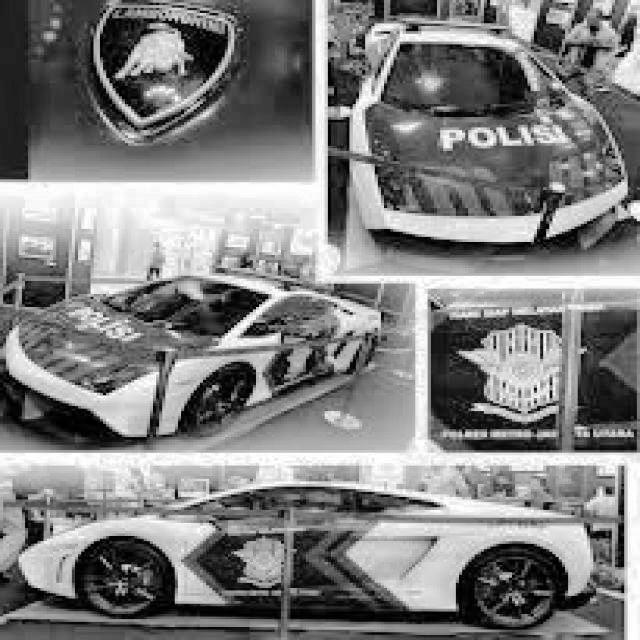Car: (14, 466, 596, 640), (347, 20, 635, 254)
